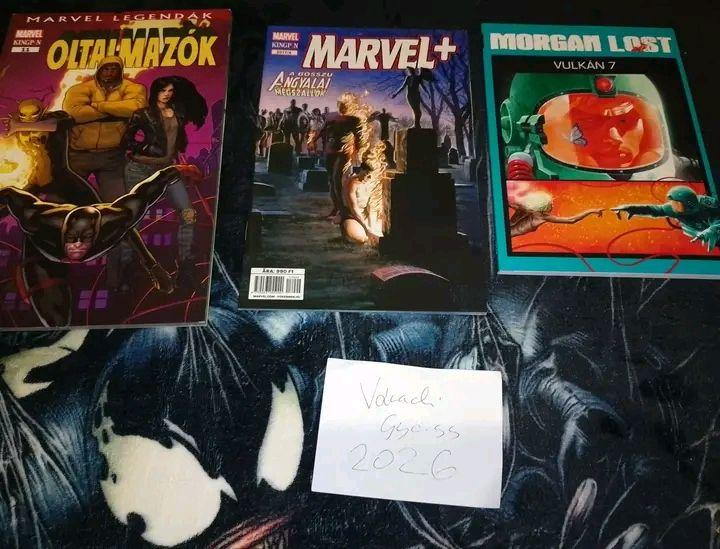comic: (0, 9, 230, 328), (240, 25, 490, 312), (482, 24, 719, 277)
